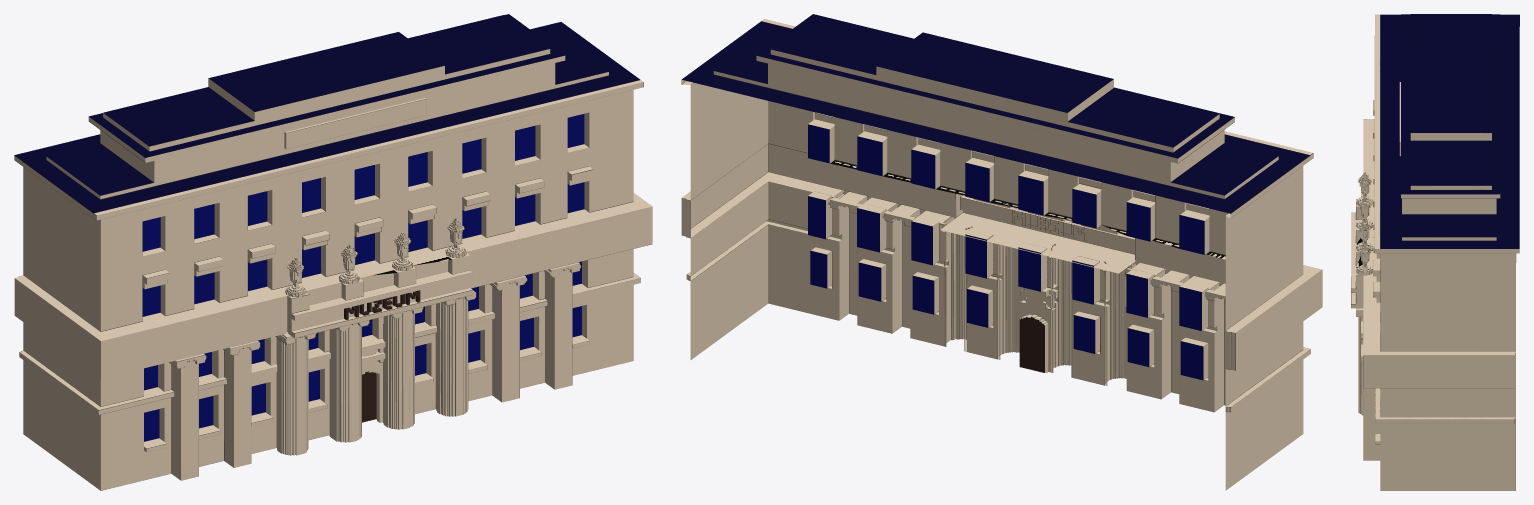
The model's file is muzeum.fbx.
3 renders of one model, left to right at view 1: azimuth 30°, elevation 25°; view 2: azimuth 150°, elevation 25°; view 3: azimuth 270°, elevation 25°, orthographic. The views are drawn at different scales.
Parts seen in each view (by area): view 1: Cube.003_Backup.002; view 2: Cube.003_Backup.002; view 3: Cube.003_Backup.002.
Part boxes in pixels (x1,y1,x2,y2): Cube.003_Backup.002: [14, 14, 652, 490]; Cube.003_Backup.002: [681, 14, 1322, 490]; Cube.003_Backup.002: [1351, 14, 1519, 490].
Bounding box in the file's own units: 4658 × 2617 × 1405.
